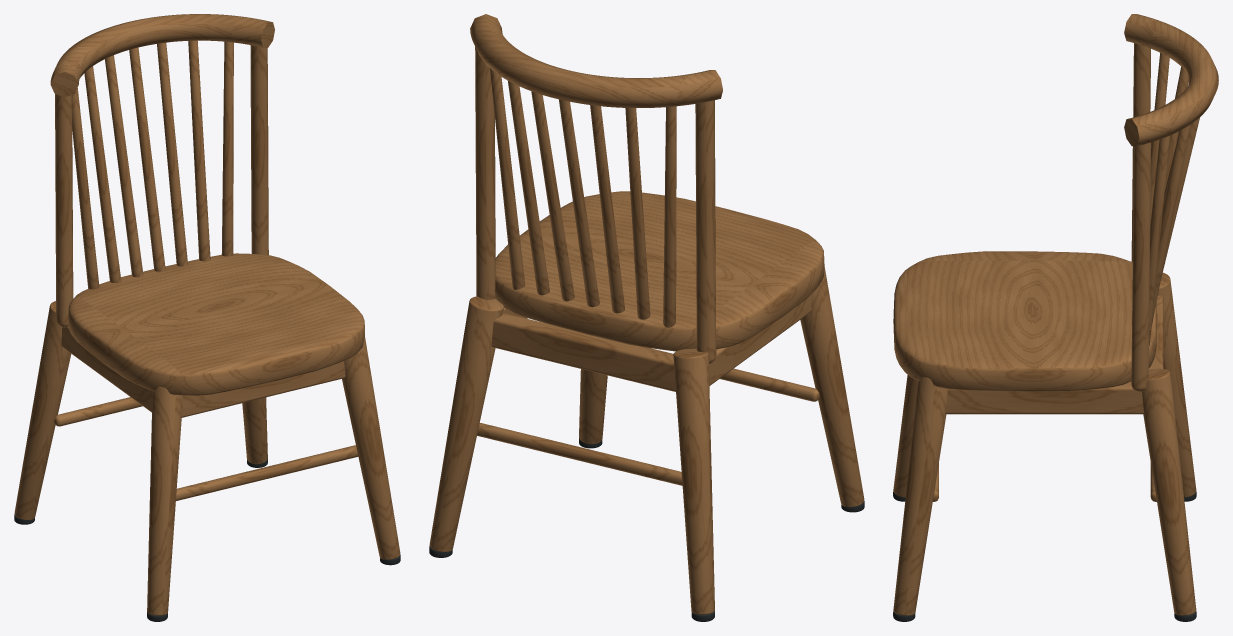
The picture shows the model from 3 angles, left to right: view 1: azimuth 30°, elevation 25°; view 2: azimuth 150°, elevation 25°; view 3: azimuth 270°, elevation 25°; orthographic projection. The views are drawn at different scales.
Parts seen in each view (by area): view 1: Oak | shaped saddle seat, Oak | curved Windsor crest, Frame | tapered leg, Frame | tapered leg.002, Frame | tapered leg.001, Oak | rear stile, Oak | rear stile.001, Frame | cross apron, Oak | turned back spindle.003, Oak | turned back spindle.004, Oak | turned back spindle.002, Oak | turned back spindle.005 (+7 smaller); view 2: Oak | shaped saddle seat, Oak | curved Windsor crest, Frame | tapered leg.001, Frame | tapered leg.003, Frame | cross apron.001, Frame | tapered leg, Oak | rear stile, Oak | rear stile.001, Oak | lower side tie.001, Oak | turned back spindle, Oak | turned back spindle.006, Oak | turned back spindle.005 (+7 smaller); view 3: Oak | shaped saddle seat, Frame | tapered leg.003, Frame | tapered leg.002, Oak | curved Windsor crest, Frame | side apron.001, Oak | rear stile.001, Frame | tapered leg.001, Oak | turned back spindle.006, Oak | turned back spindle.005, Frame | tapered leg, Oak | rear stile, Oak | turned back spindle (+3 smaller).
Part boxes in pixels (<box>): Oak | shaped saddle seat: <box>68,253,364,395</box>; Oak | curved Windsor crest: <box>50,14,274,97</box>; Frame | tapered leg: <box>147,386,183,615</box>; Frame | tapered leg.002: <box>342,337,400,559</box>; Frame | tapered leg.001: <box>14,301,71,519</box>; Oak | rear stile: <box>55,94,73,327</box>; Oak | rear stile.001: <box>250,45,268,254</box>; Frame | cross apron: <box>181,361,345,417</box>; Oak | turned back spindle.003: <box>129,47,165,271</box>; Oak | turned back spindle.004: <box>157,42,187,266</box>; Oak | turned back spindle.002: <box>105,55,143,277</box>; Oak | turned back spindle.005: <box>188,40,210,261</box>; Oak | shaped saddle seat: <box>495,191,824,351</box>; Oak | curved Windsor crest: <box>470,14,722,107</box>; Frame | tapered leg.001: <box>673,348,714,614</box>; Frame | tapered leg.003: <box>429,296,504,551</box>; Frame | cross apron.001: <box>491,313,675,391</box>; Frame | tapered leg: <box>800,267,864,507</box>; Oak | rear stile: <box>695,100,716,363</box>; Oak | rear stile.001: <box>475,46,495,299</box>; Oak | lower side tie.001: <box>477,423,682,485</box>; Oak | turned back spindle: <box>663,106,676,327</box>; Oak | turned back spindle.006: <box>489,68,525,289</box>; Oak | turned back spindle.005: <box>508,81,549,295</box>; Oak | shaped saddle seat: <box>893,251,1157,391</box>; Frame | tapered leg.003: <box>1142,368,1196,615</box>; Frame | tapered leg.002: <box>893,377,947,615</box>; Oak | curved Windsor crest: <box>1124,14,1218,146</box>; Frame | side apron.001: <box>945,381,1143,414</box>; Oak | rear stile.001: <box>1131,142,1151,391</box>; Frame | tapered leg.001: <box>1157,272,1196,497</box>; Oak | turned back spindle.006: <box>1149,135,1169,345</box>; Oak | turned back spindle.005: <box>1151,125,1190,325</box>; Frame | tapered leg: <box>893,375,918,497</box>; Oak | rear stile: <box>1131,43,1150,261</box>; Oak | turned back spindle: <box>1150,53,1169,223</box>.
Size of the model in its own units: 0.552 by 0.975 by 0.586.
Materials: 2 (1 with a texture image).
